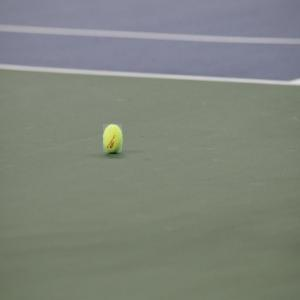TennisBall: (104, 125, 124, 154)
